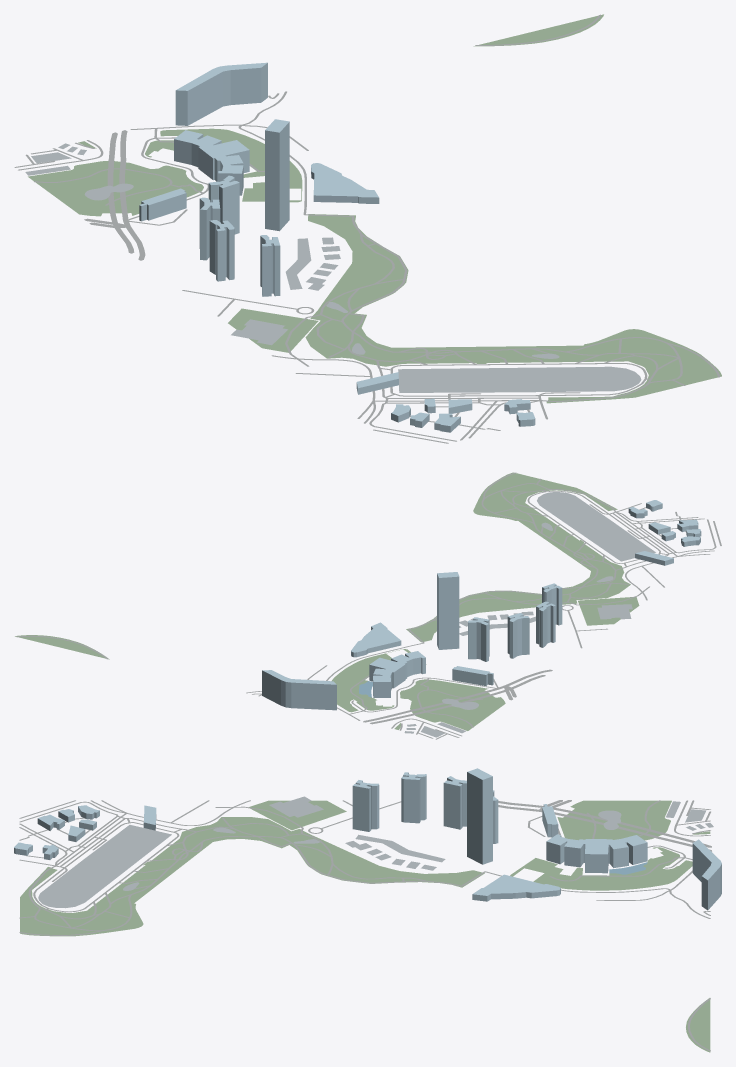
Rendered from -12_-7-known-coarse.glb.
3 renders of one model, top to bottom at view 1: azimuth 30°, elevation 25°; view 2: azimuth 150°, elevation 25°; view 3: azimuth 270°, elevation 25°, orthographic. The views are drawn at different scales.
Size of the model in its own units: 874 by 135 by 1020.
